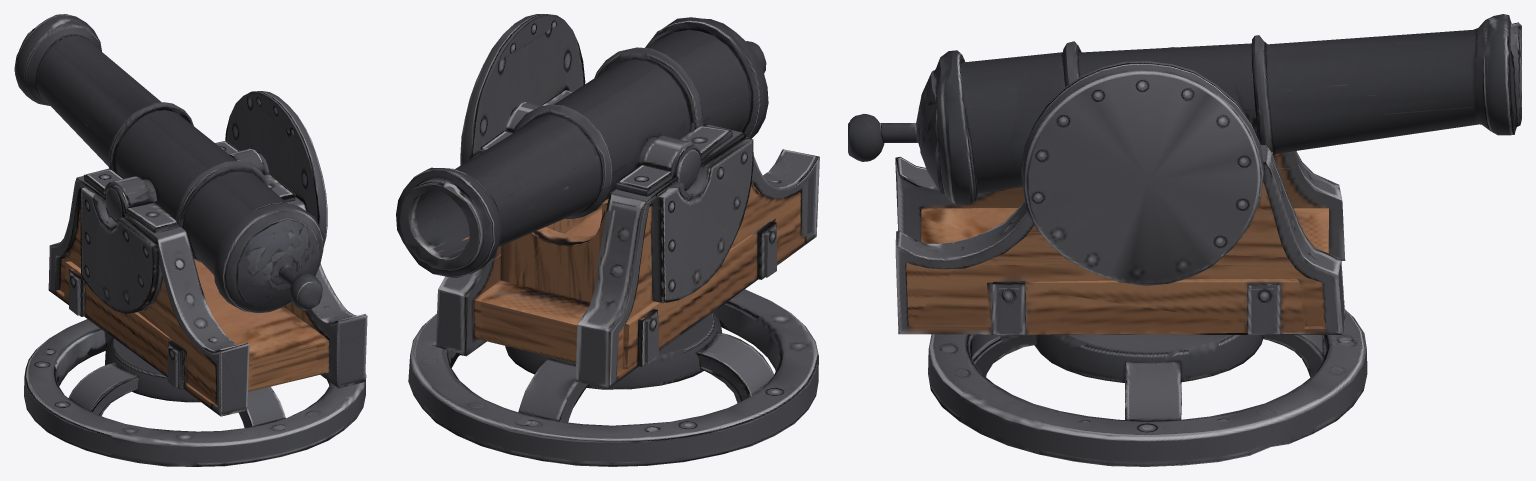
The model's file is cannon22a-b-4000.glb.
The picture shows the model from 3 angles, left to right: view 1: azimuth 30°, elevation 25°; view 2: azimuth 150°, elevation 25°; view 3: azimuth 270°, elevation 25°; orthographic projection. The views are drawn at different scales.
Parts seen in each view (by area): view 1: mount, barrel; view 2: mount, barrel; view 3: mount, barrel.
Part boxes in pixels (left/top/right/bottom): mount: left=24, top=91, right=367, bottom=466; barrel: left=14, top=14, right=323, bottom=313; mount: left=408, top=14, right=819, bottom=466; barrel: left=396, top=17, right=768, bottom=277; mount: left=895, top=61, right=1367, bottom=466; barrel: left=848, top=14, right=1521, bottom=204.
Bounding box in the file's own units: 1.31 × 1.18 × 2.
Materials: 1 (1 with a texture image).
